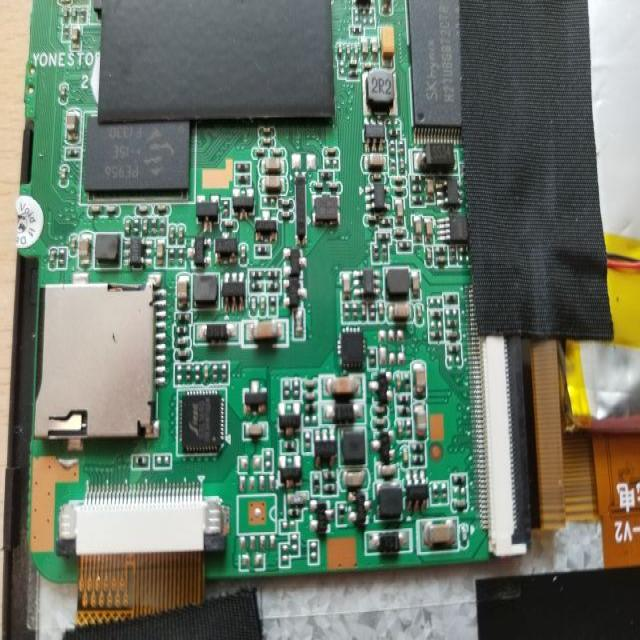capacitor: (243, 314, 291, 353), (424, 520, 461, 555), (321, 367, 361, 399), (240, 420, 278, 443), (172, 271, 194, 305), (64, 102, 78, 148), (386, 299, 409, 326), (255, 156, 290, 173), (406, 362, 425, 392), (338, 271, 357, 297), (392, 191, 409, 220), (344, 470, 364, 494), (417, 403, 431, 437), (378, 463, 401, 483), (259, 175, 285, 192), (366, 151, 390, 169), (75, 231, 90, 258), (414, 212, 425, 248), (425, 208, 435, 246), (156, 236, 170, 262), (72, 26, 82, 50)
resistor: (318, 172, 334, 186), (442, 288, 458, 302), (396, 403, 413, 415), (412, 442, 429, 454), (398, 391, 413, 402), (428, 308, 441, 320)
